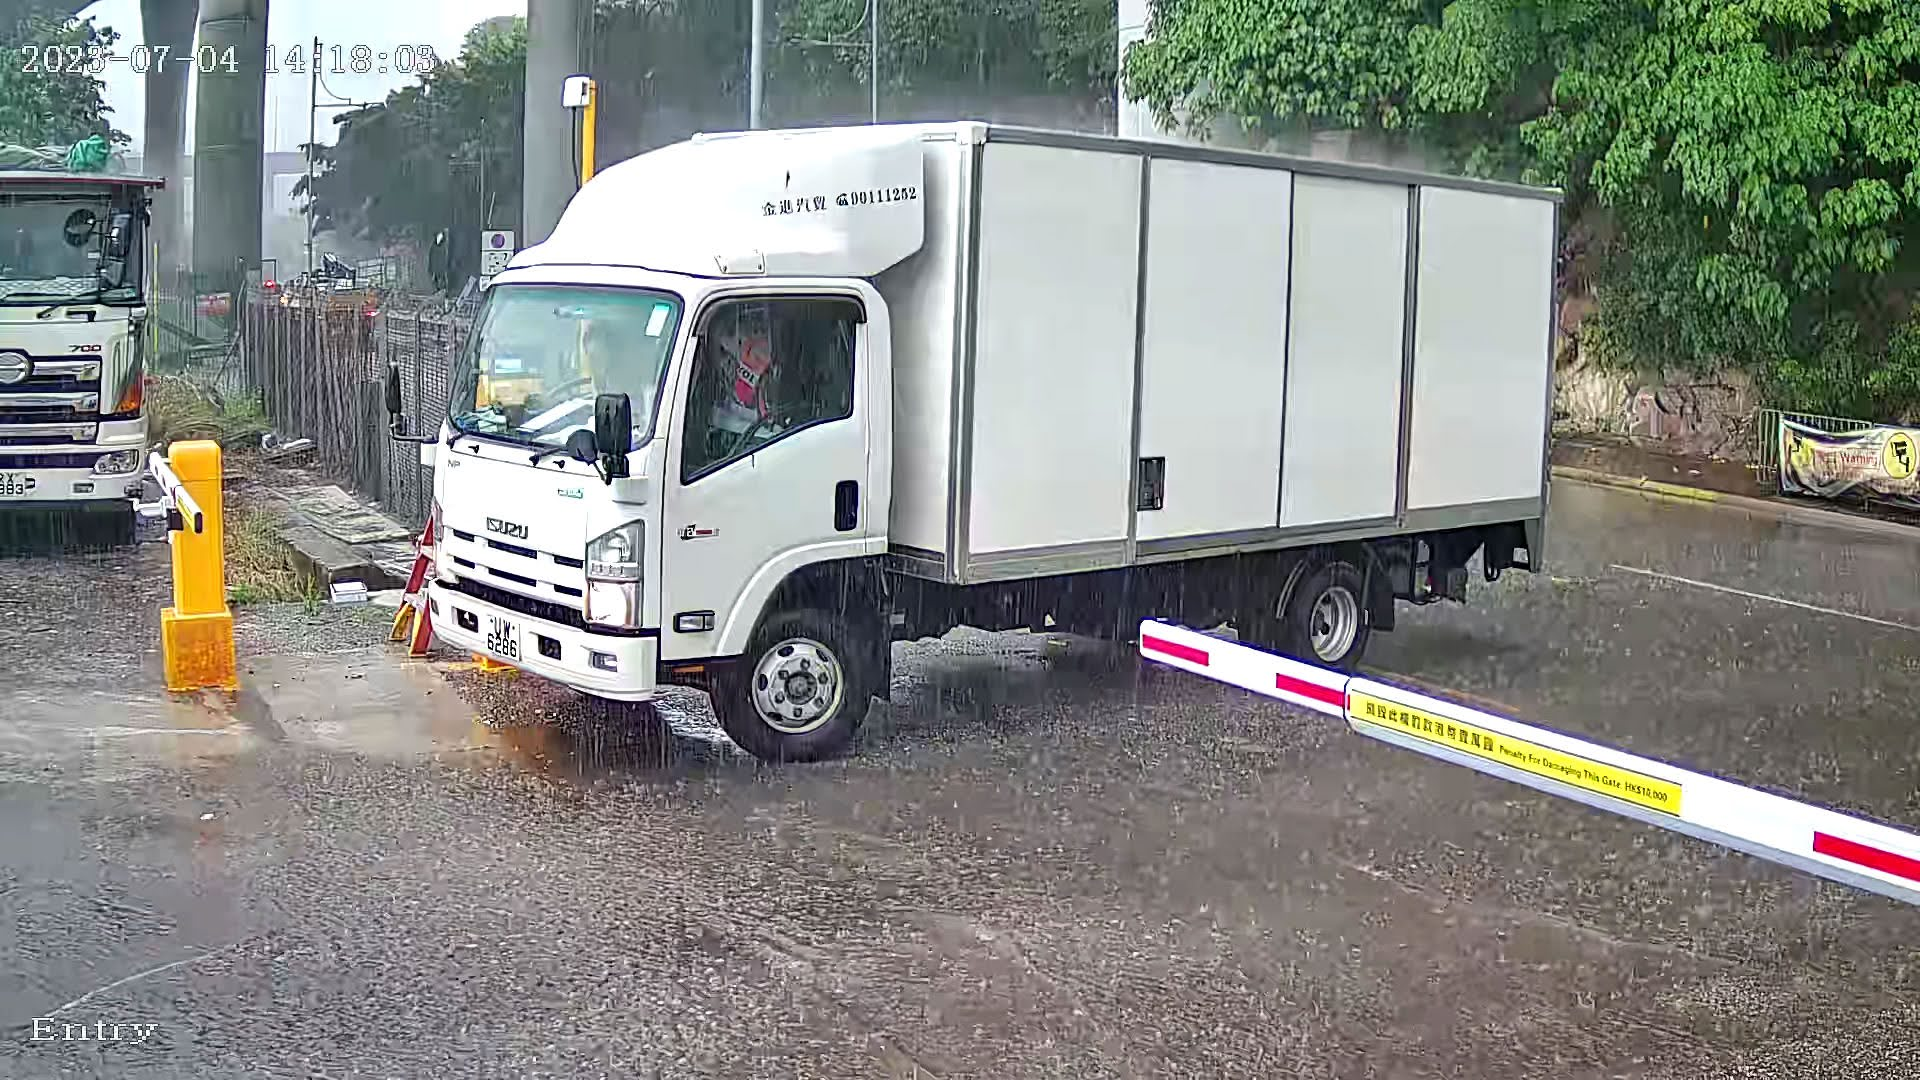truck: (423, 107, 1582, 777)
